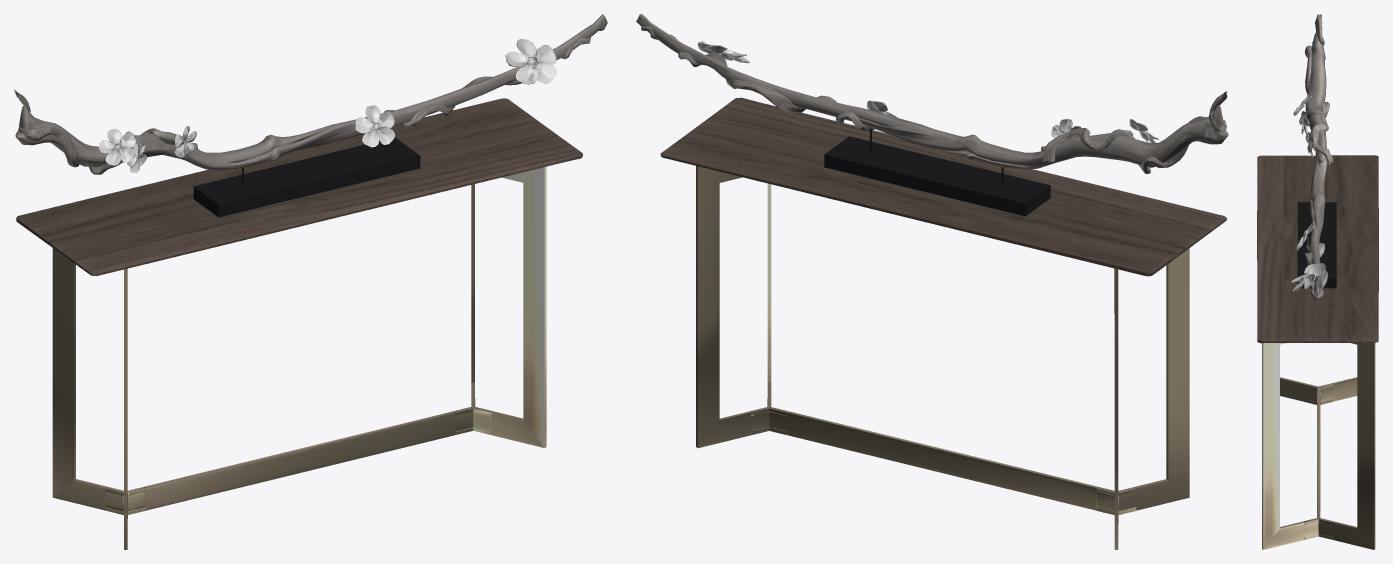
The model's file is raw_model.obj.
The picture shows the model from 3 angles, left to right: view 1: azimuth 30°, elevation 25°; view 2: azimuth 150°, elevation 25°; view 3: azimuth 270°, elevation 25°; orthographic projection. The views are drawn at different scales.
Parts seen in each view (by area): view 1: solid_001, solid_005, solid_004, solid_002, solid_003; view 2: solid_001, solid_005, solid_004, solid_002, solid_003; view 3: solid_001, solid_005, solid_004, solid_002, solid_003.
Boxes of the visible parts, bbox=[...] form: solid_001: bbox=[16, 98, 582, 275]; solid_005: bbox=[52, 166, 546, 549]; solid_004: bbox=[14, 14, 607, 174]; solid_002: bbox=[193, 137, 420, 217]; solid_003: bbox=[99, 39, 556, 172]; solid_001: bbox=[660, 97, 1226, 276]; solid_005: bbox=[696, 166, 1189, 549]; solid_004: bbox=[636, 14, 1228, 173]; solid_002: bbox=[824, 129, 1050, 216]; solid_003: bbox=[697, 41, 1158, 142]; solid_001: bbox=[1257, 155, 1378, 343]; solid_005: bbox=[1262, 343, 1375, 549]; solid_004: bbox=[1304, 14, 1333, 299]; solid_002: bbox=[1297, 202, 1336, 288]; solid_003: bbox=[1291, 93, 1325, 291].
Bounding box in the file's own units: 1.84 × 1.34 × 0.4236.
Materials: 1 (1 with a texture image).
